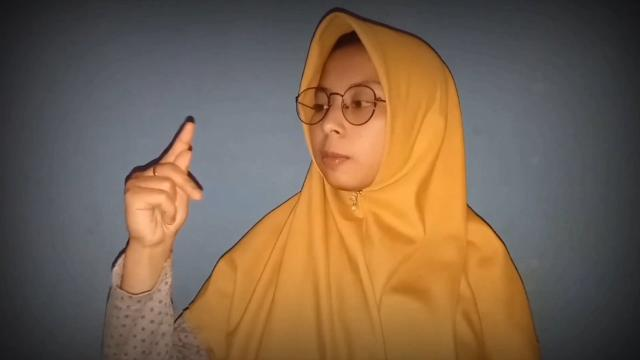K: (123, 119, 207, 253)
